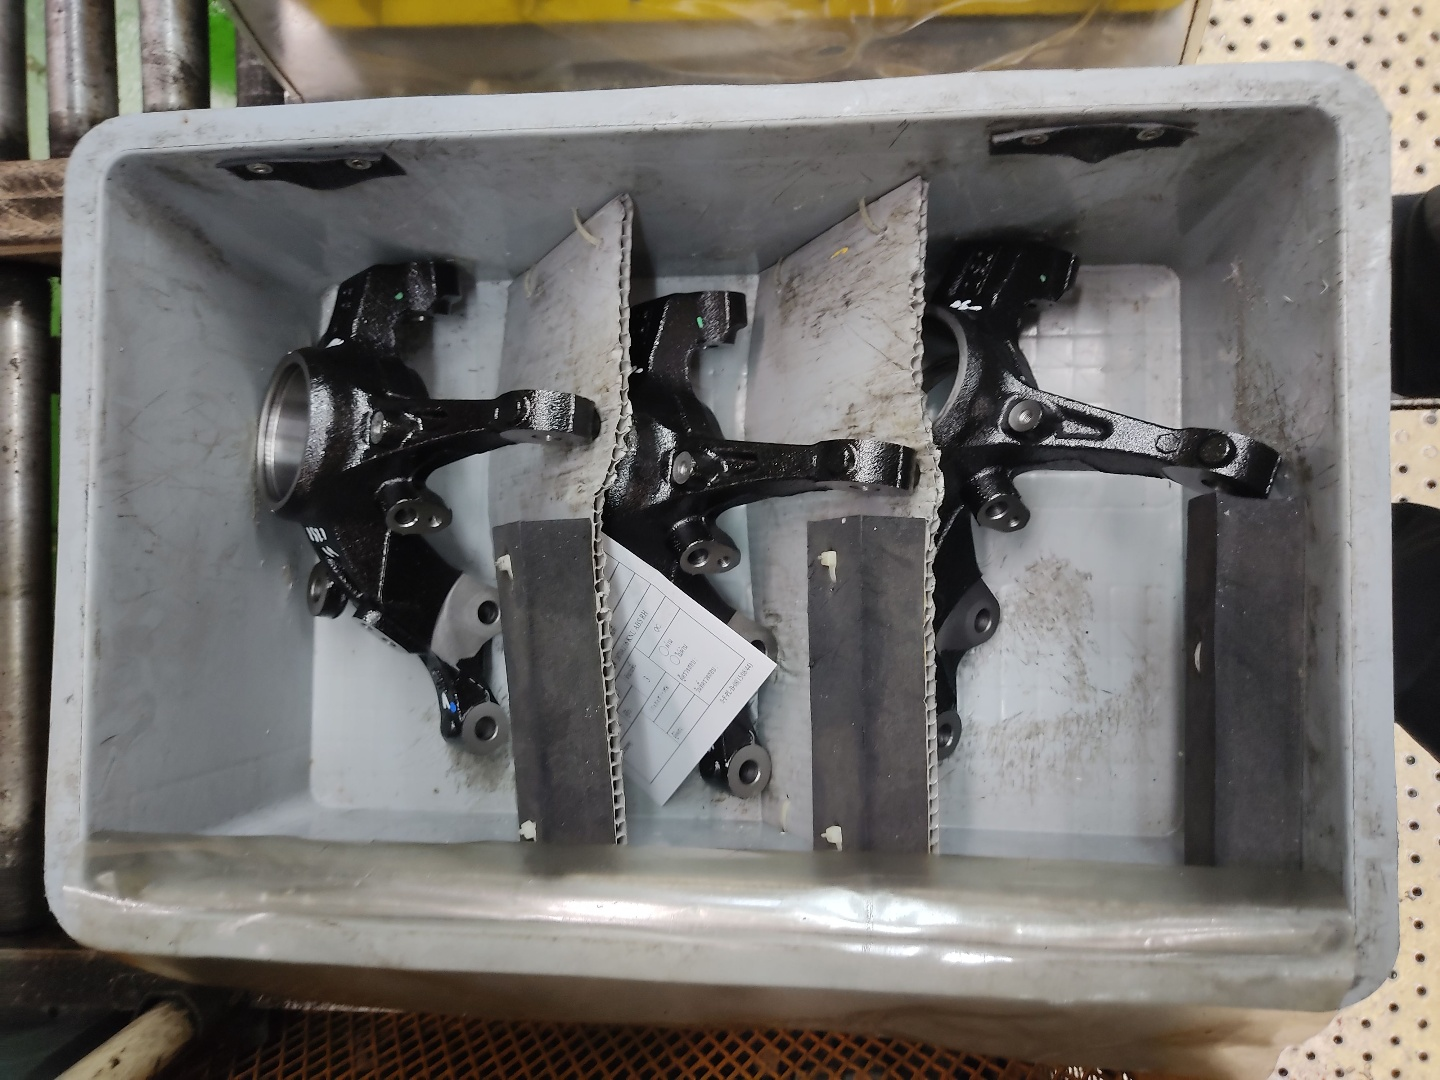abs-rh: (918, 239, 1287, 773), (243, 253, 603, 760), (612, 281, 924, 805)
